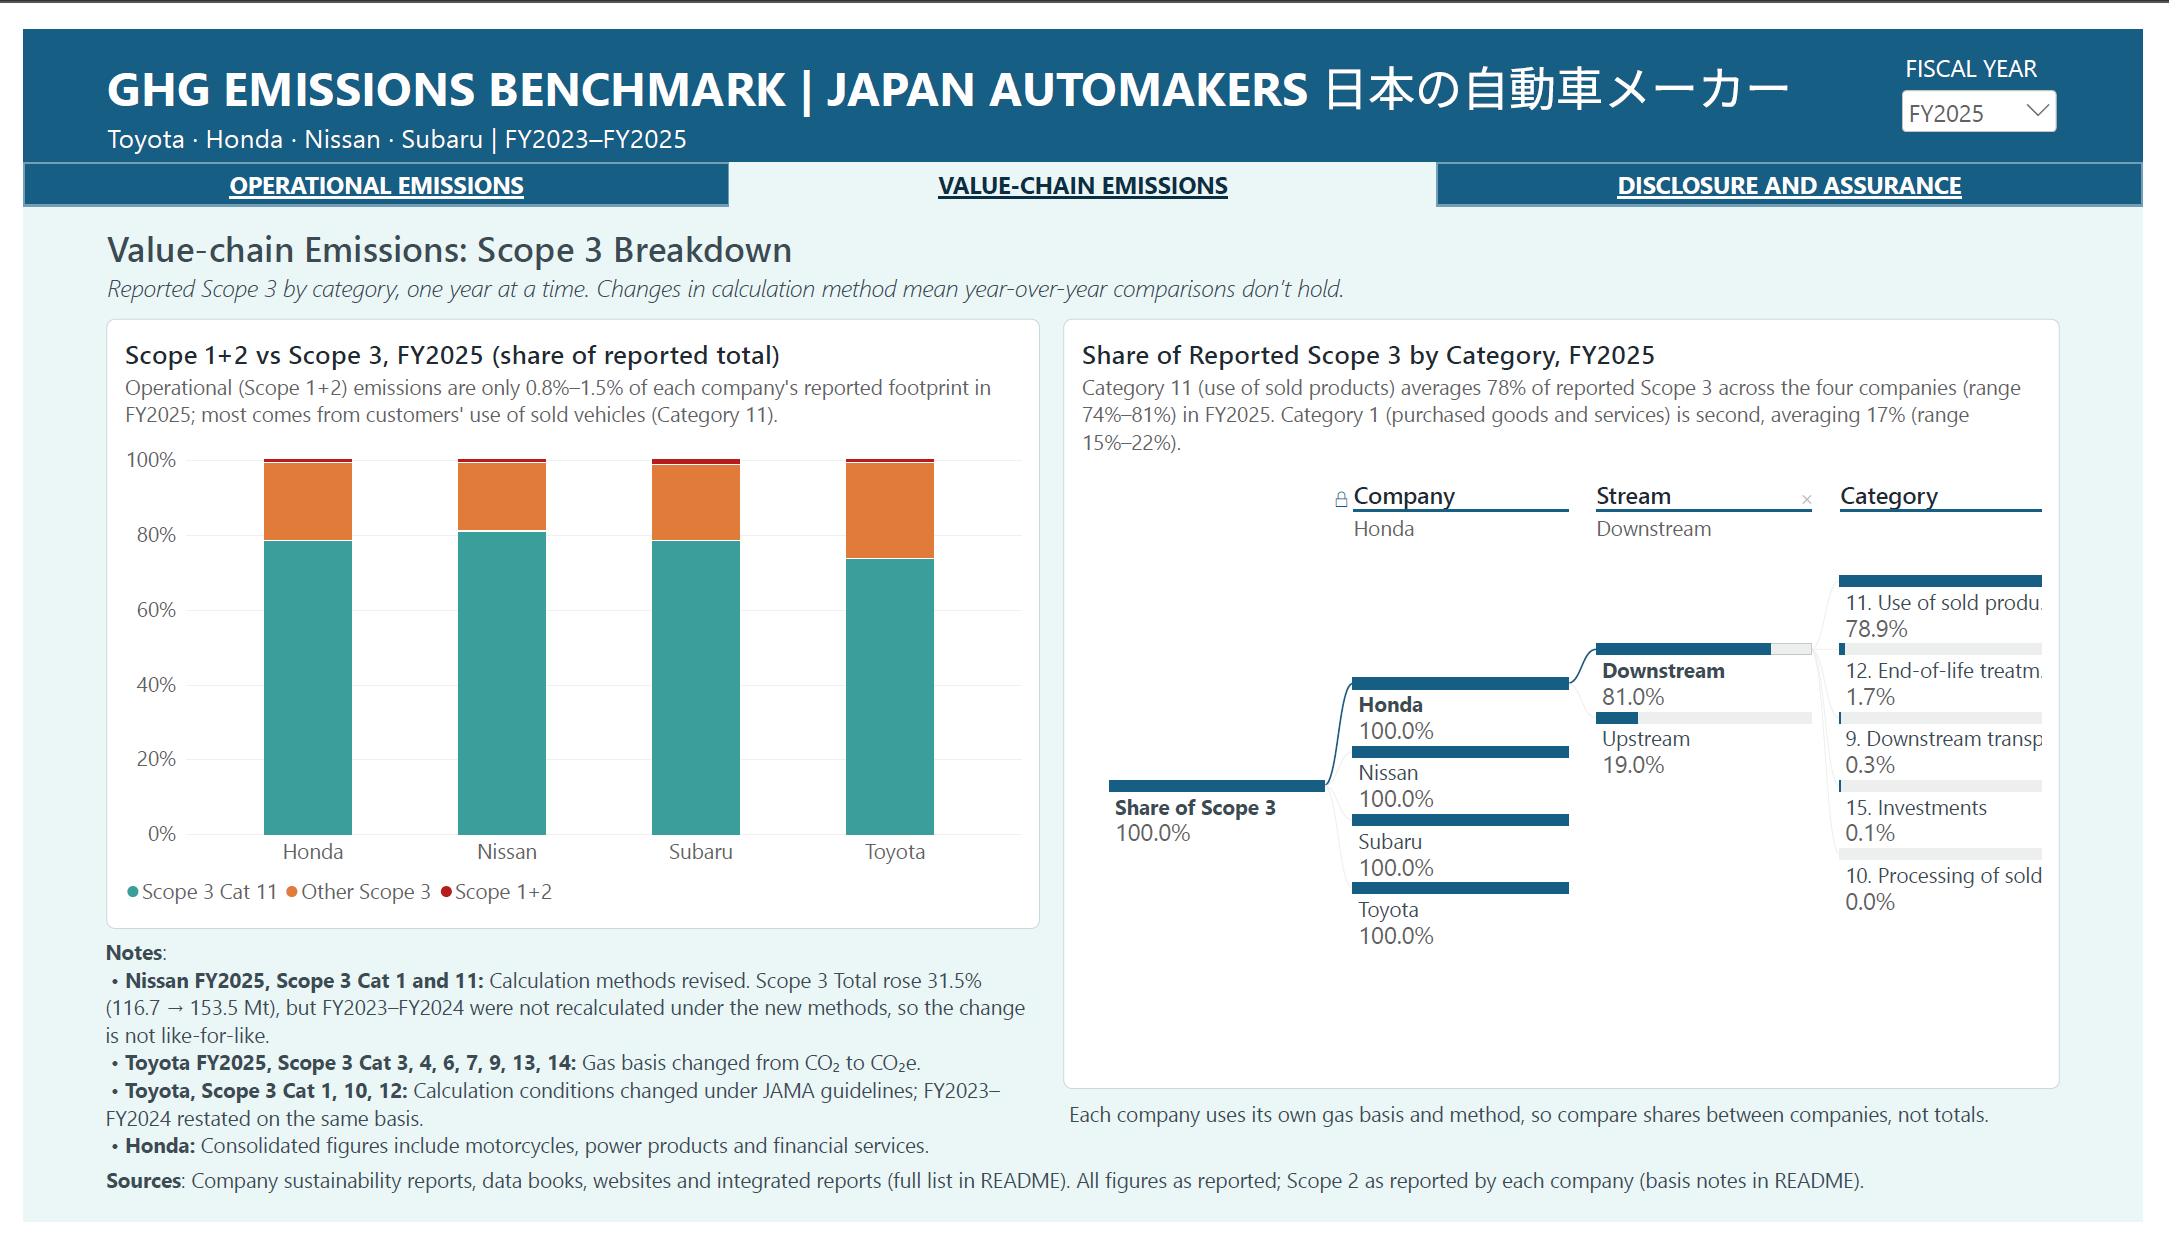

Layout of this report page (visuals, bound fields, positions):
{"tool":"powerbi","page":{"name":"VALUE-CHAIN EMISSIONS","canvas":[1920,1080],"ordinal":1},"visuals":[{"type":"textbox","title":"Footnote","box":[75,1030,1770,50],"z":0},{"type":"textbox","title":"Notes 2","box":[941.8,970.5,902.2,55.6],"z":500,"group":"g1"},{"type":"decompositionTreeVisual","fields":{"Analyze":["scope3.Scope 3 Share"],"ExplainBy":["fundamentals.company_name","scope3.Stream","scope3.Category"]},"box":[941.8,261.6,903.3,698.9],"z":1000,"group":"g1"},{"type":"textbox","title":"Notes 1","box":[74,823.2,847.1,202.9],"z":1500,"group":"g1"},{"type":"group","id":"g1","title":"Value Chain Emissions","box":[74,176,1771.6,850.1],"z":2000},{"type":"hundredPercentStackedColumnChart","fields":{"Category":["fundamentals.company_name"],"Y":["scope3.Cat 11 (Mt)","scope3.Other Scope 3 (Mt)","scope3.S12 (Mt)"]},"box":[75.4,261.8,845.7,552.9],"z":2000,"group":"g1"},{"type":"group","id":"g2","title":"Title Bar","box":[0,0,1920,160],"z":3000},{"type":"textbox","title":"Value Chain Emissions Title","box":[75.6,176,1770,85],"z":3000,"group":"g1"},{"type":"pageNavigator","title":"Page Navigator","box":[0,120,1920,40],"z":16250,"group":"g2"},{"type":"shape","title":"Top Panel","box":[0,0,1920,120],"z":16312,"group":"g2"},{"type":"slicer","title":"FY Dropdown","fields":{"Values":["fiscal_year.fiscal_year"]},"box":[1696.7,20,150,100],"z":16375,"group":"g2"},{"type":"textbox","title":"Project Title","box":[75.6,20.4,1529.9,109.1],"z":16500,"group":"g2"}]}

Visuals, with their boxes in screenshot pixels (x1, y1, x2, y2), scaled from the page's 1920x1080 canvas onto the 2169x1245 screenshot:
"Footnote" textbox: box=[85, 1187, 2084, 1244]
"Notes 2" textbox: box=[1064, 1119, 2083, 1183]
decompositionTreeVisual - scope3.Scope 3 Share x fundamentals.company_name: box=[1064, 302, 2084, 1107]
"Notes 1" textbox: box=[84, 949, 1041, 1183]
"Value Chain Emissions" group: box=[84, 203, 2085, 1183]
hundredPercentStackedColumnChart - fundamentals.company_name x scope3.Cat 11 (Mt): box=[85, 302, 1041, 939]
"Title Bar" group: box=[0, 0, 2168, 184]
"Value Chain Emissions Title" textbox: box=[85, 203, 2085, 301]
"Page Navigator" pageNavigator: box=[0, 138, 2168, 184]
"Top Panel" shape: box=[0, 0, 2168, 138]
"FY Dropdown" slicer: box=[1917, 23, 2086, 138]
"Project Title" textbox: box=[85, 24, 1814, 149]
